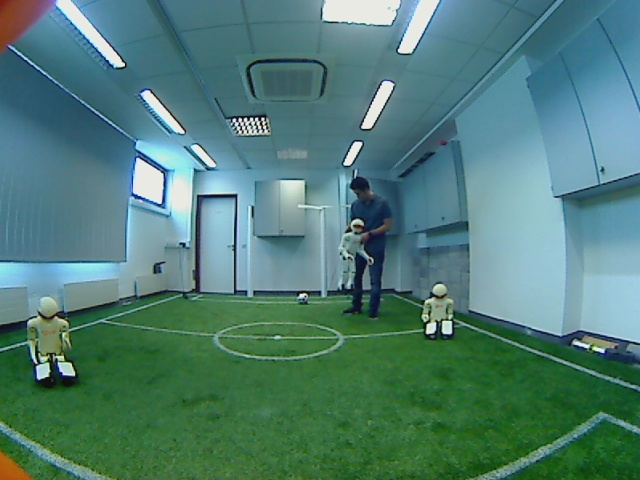ball: (293, 288, 314, 309)
robot: (19, 291, 88, 387), (332, 216, 373, 297), (414, 280, 462, 346)
